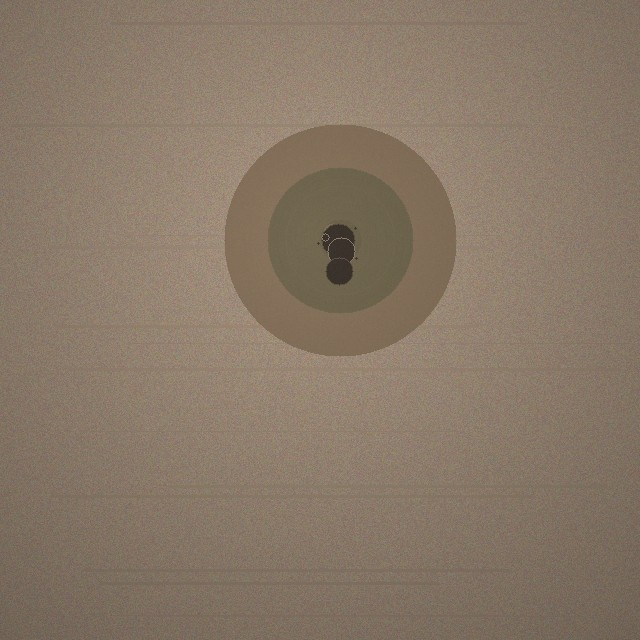shrinkage: (224, 124, 456, 356)
